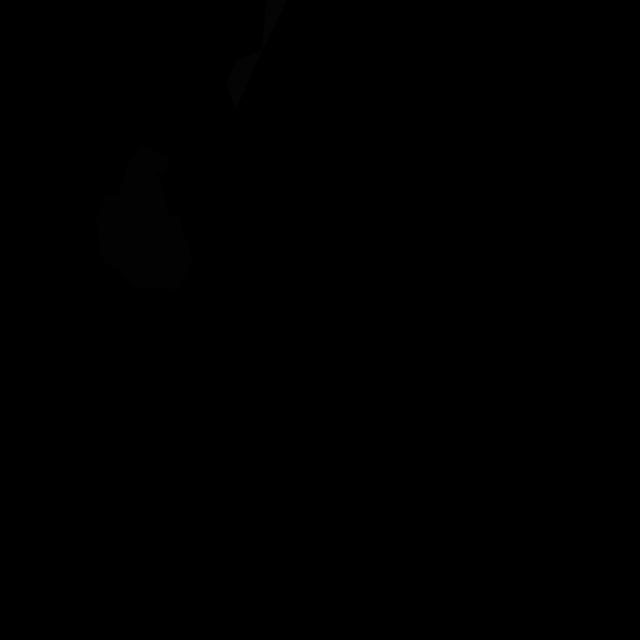cardboard: (96, 144, 193, 291)
soft_plastic: (226, 0, 287, 111)
